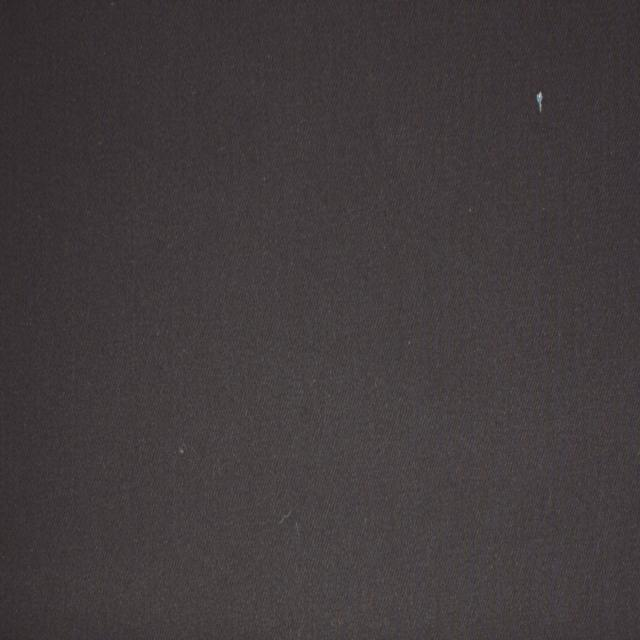Knot: (537, 91, 544, 112)
